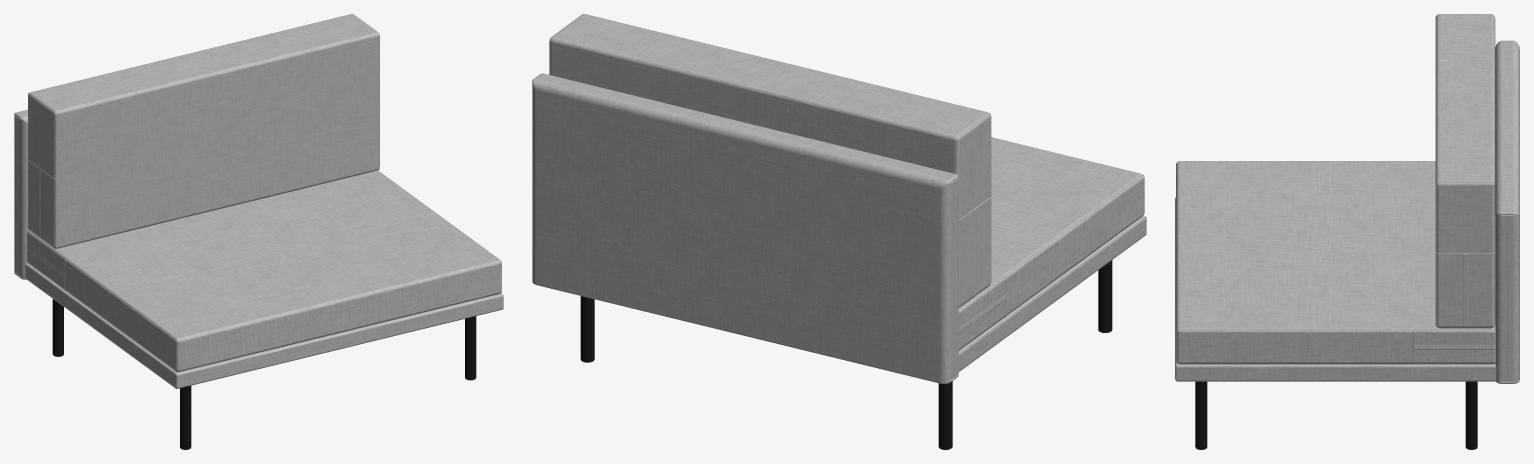
The model's file is Sofa-1000.glb.
3 renders of one model, left to right at view 1: azimuth 30°, elevation 25°; view 2: azimuth 150°, elevation 25°; view 3: azimuth 270°, elevation 25°, orthographic. The views are drawn at different scales.
Visible parts, largest first — view 1: Body1.111, Body1.172; view 2: Body1.111, Body1.172; view 3: Body1.111, Body1.172.
Boxes of the visible parts, box(x1,y1,x2,y2) form: Body1.111: box(14, 14, 503, 388); Body1.172: box(52, 299, 476, 448); Body1.111: box(532, 14, 1146, 383); Body1.172: box(580, 260, 1112, 448); Body1.111: box(1175, 14, 1519, 383); Body1.172: box(1195, 381, 1477, 448).
Bounding box in the file's own units: 1.03 × 0.7665 × 0.867.
5 materials, 2 textured.
